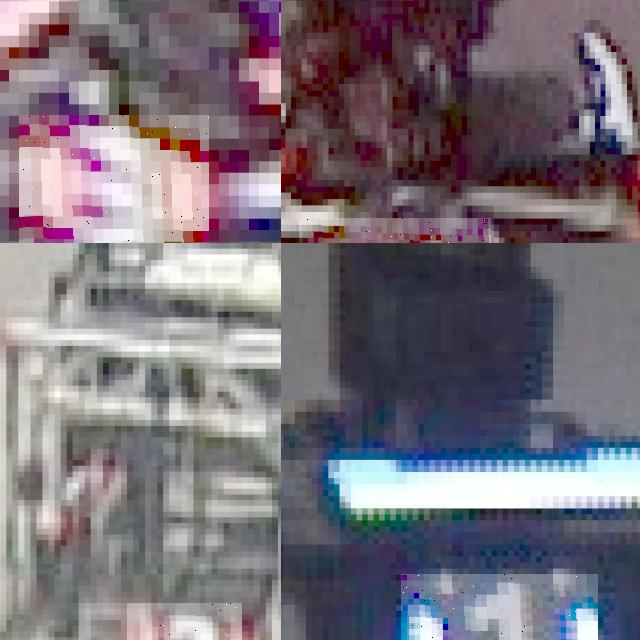B1: (401, 574, 597, 640)
R2: (127, 603, 241, 640)
R3: (19, 115, 209, 243)
